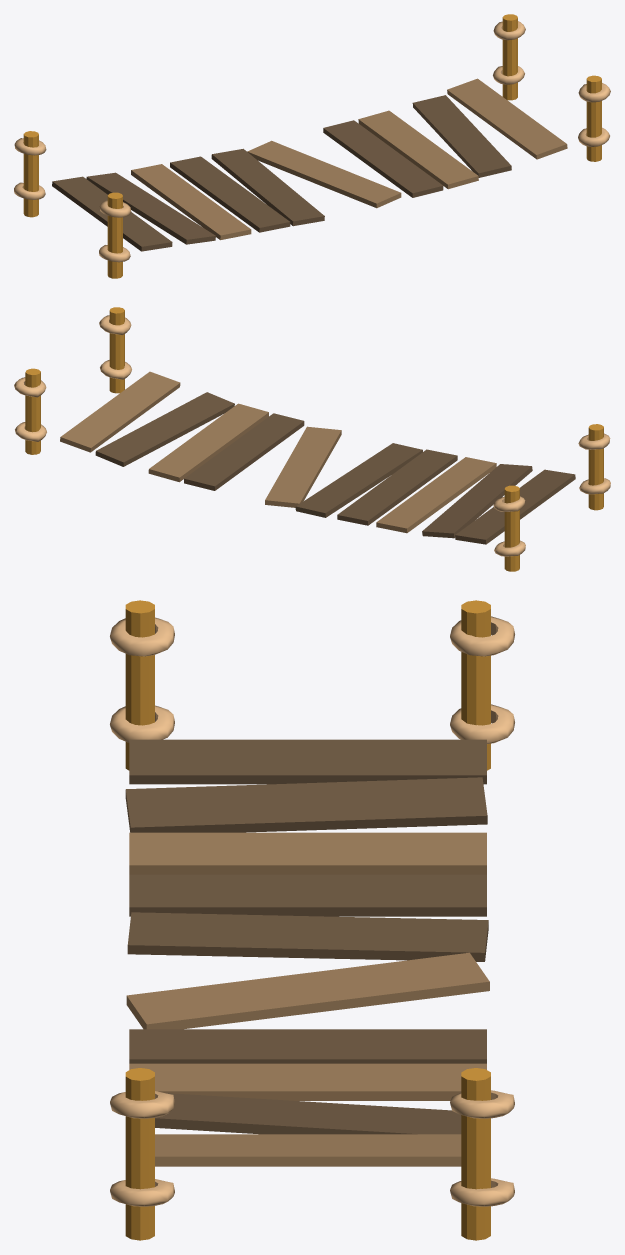
File: Bridge_A.fbx
The picture shows the model from 3 angles, top to bottom: view 1: azimuth 30°, elevation 25°; view 2: azimuth 150°, elevation 25°; view 3: azimuth 270°, elevation 25°; orthographic projection. The views are drawn at different scales.
Visible parts, largest first — view 1: pCube13; view 2: pCube13; view 3: pCube13.
Part boxes in pixels (x1,y1,x2,y2): pCube13: (14,14,610,278); pCube13: (14,307,610,571); pCube13: (110,600,514,1240).
Size of the model in its own units: 407 by 61.16 by 141.
